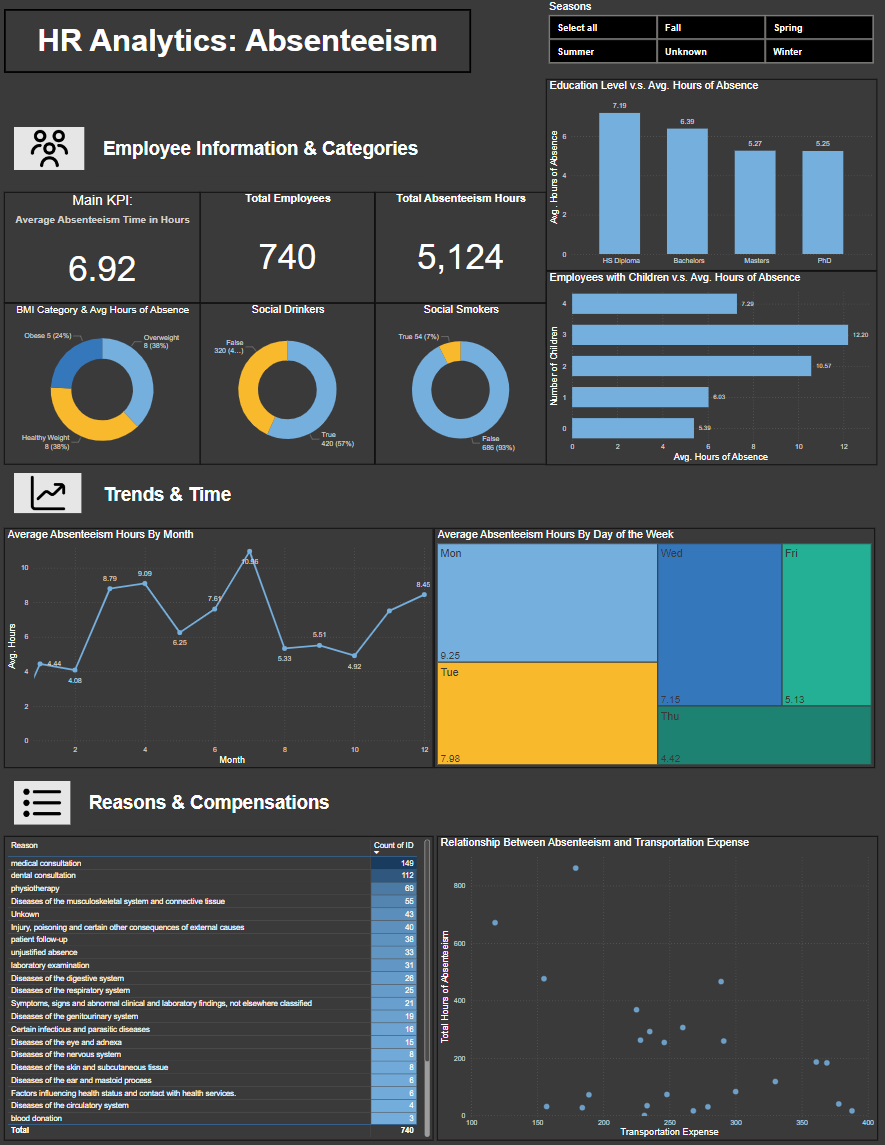

Layout of this report page (visuals, bound fields, positions):
{"tool":"powerbi","page":{"name":"Page 1","canvas":[1600,2000],"ordinal":0},"visuals":[{"type":"card","title":"Main KPI:","fields":{"Values":["Avg(Query2.Absenteeism_time_in_hours)"]},"box":[15.3,353.1,337.8,191.2],"z":0},{"type":"columnChart","title":"Education Level v.s. Avg. Hours of Absence","fields":{"Category":["Query2.Education_Level"],"Y":["Avg(Query2.Absenteeism_time_in_hours)"]},"box":[948.5,158.1,569.9,330.2],"z":1000},{"type":"donutChart","title":"BMI Category & Avg Hours of Absence","fields":{"Category":["Query2.BMI_Categeory"],"Y":["Avg(Query2.Absenteeism_time_in_hours)"]},"box":[15.3,544.4,337.8,277.9],"z":2000},{"type":"barChart","title":"Employees with Children v.s. Avg. Hours of Absence","fields":{"Category":["Query2.Children"],"Y":["Avg(Query2.Absenteeism_time_in_hours)"]},"box":[948.5,488.3,569.9,334],"z":3000},{"type":"donutChart","title":"Social Drinkers","fields":{"Y":["CountNonNull(Query2.ID)"],"Category":["Query2.Social_drinker"]},"box":[353.1,544.4,300.9,277.9],"z":4000},{"type":"donutChart","title":"Social Smokers","fields":{"Category":["Query2.Social_smoker"],"Y":["CountNonNull(Query2.ID)"]},"box":[654,544.4,294.5,277.9],"z":5000},{"type":"lineChart","title":"Average Absenteeism Hours By Month","fields":{"Category":["Query2.Month_of_absence"],"Y":["Avg(Query2.Absenteeism_time_in_hours)"]},"box":[15.3,932,739.4,413.1],"z":6000},{"type":"treemap","title":"Average Absenteeism Hours By Day of the Week","fields":{"Group":["Query2.Day_of_Week"],"Values":["Avg(Query2.Absenteeism_time_in_hours)"]},"box":[754.7,932,758.6,413.1],"z":7000},{"type":"tableEx","fields":{"Values":["Query2.Reason","CountNonNull(Query2.ID)"]},"box":[15.3,1461,739.4,524],"z":8000},{"type":"scatterChart","title":"Relationship Between Absenteeism and Transportation Expense","fields":{"X":["Query2.Transportation_expense"],"Y":["Sum(Query2.Absenteeism_time_in_hours)"]},"box":[761.1,1461,758.6,524],"z":9000},{"type":"card","title":"Total Employees","fields":{"Values":["CountNonNull(Query2.ID)"]},"box":[353.1,353.1,300.9,191.2],"z":10000},{"type":"card","title":"Total Absenteeism Hours","fields":{"Values":["Sum(Query2.Absenteeism_time_in_hours)"]},"box":[654,353.1,294.5,191.2],"z":11000},{"type":"advancedSlicerVisual","title":"Seasons","fields":{"Values":["Query2.Season_Names"]},"box":[947.9,22.1,571.1,114.8],"z":12000},{"type":"textbox","box":[15.3,38.2,804.5,109.6],"z":13000},{"type":"textbox","box":[149.7,1366.6,855.4,86.1],"z":14000},{"type":"image","box":[31.9,241,121.1,73.9],"z":15000},{"type":"textbox","box":[173.4,836.3,244.8,68.8],"z":16000},{"type":"image","box":[31.9,836.3,116,68.8],"z":17000},{"type":"textbox","box":[173.4,241,566.1,85.4],"z":18000},{"type":"image","box":[31.9,1366.7,96.9,75.2],"z":19000}]}

Visuals, with their boxes on the page's 1600x2000 design canvas (x1, y1, x2, y2). These are canvas units, not pixel positions in the 885x1145 screenshot, which may show the page scaled, cropped or inside an application window:
"Main KPI:" card: locate(15, 353, 353, 544)
"Education Level v.s. Avg. Hours of Absence" columnChart: locate(948, 158, 1518, 488)
"BMI Category & Avg Hours of Absence" donutChart: locate(15, 544, 353, 822)
"Employees with Children v.s. Avg. Hours of Absence" barChart: locate(948, 488, 1518, 822)
"Social Drinkers" donutChart: locate(353, 544, 654, 822)
"Social Smokers" donutChart: locate(654, 544, 948, 822)
"Average Absenteeism Hours By Month" lineChart: locate(15, 932, 755, 1345)
"Average Absenteeism Hours By Day of the Week" treemap: locate(755, 932, 1513, 1345)
tableEx - Query2.Reason x CountNonNull(Query2.ID): locate(15, 1461, 755, 1985)
"Relationship Between Absenteeism and Transportation Expense" scatterChart: locate(761, 1461, 1520, 1985)
"Total Employees" card: locate(353, 353, 654, 544)
"Total Absenteeism Hours" card: locate(654, 353, 948, 544)
"Seasons" advancedSlicerVisual: locate(948, 22, 1519, 137)
textbox: locate(15, 38, 820, 148)
textbox: locate(150, 1367, 1005, 1453)
image: locate(32, 241, 153, 315)
textbox: locate(173, 836, 418, 905)
image: locate(32, 836, 148, 905)
textbox: locate(173, 241, 740, 326)
image: locate(32, 1367, 129, 1442)
